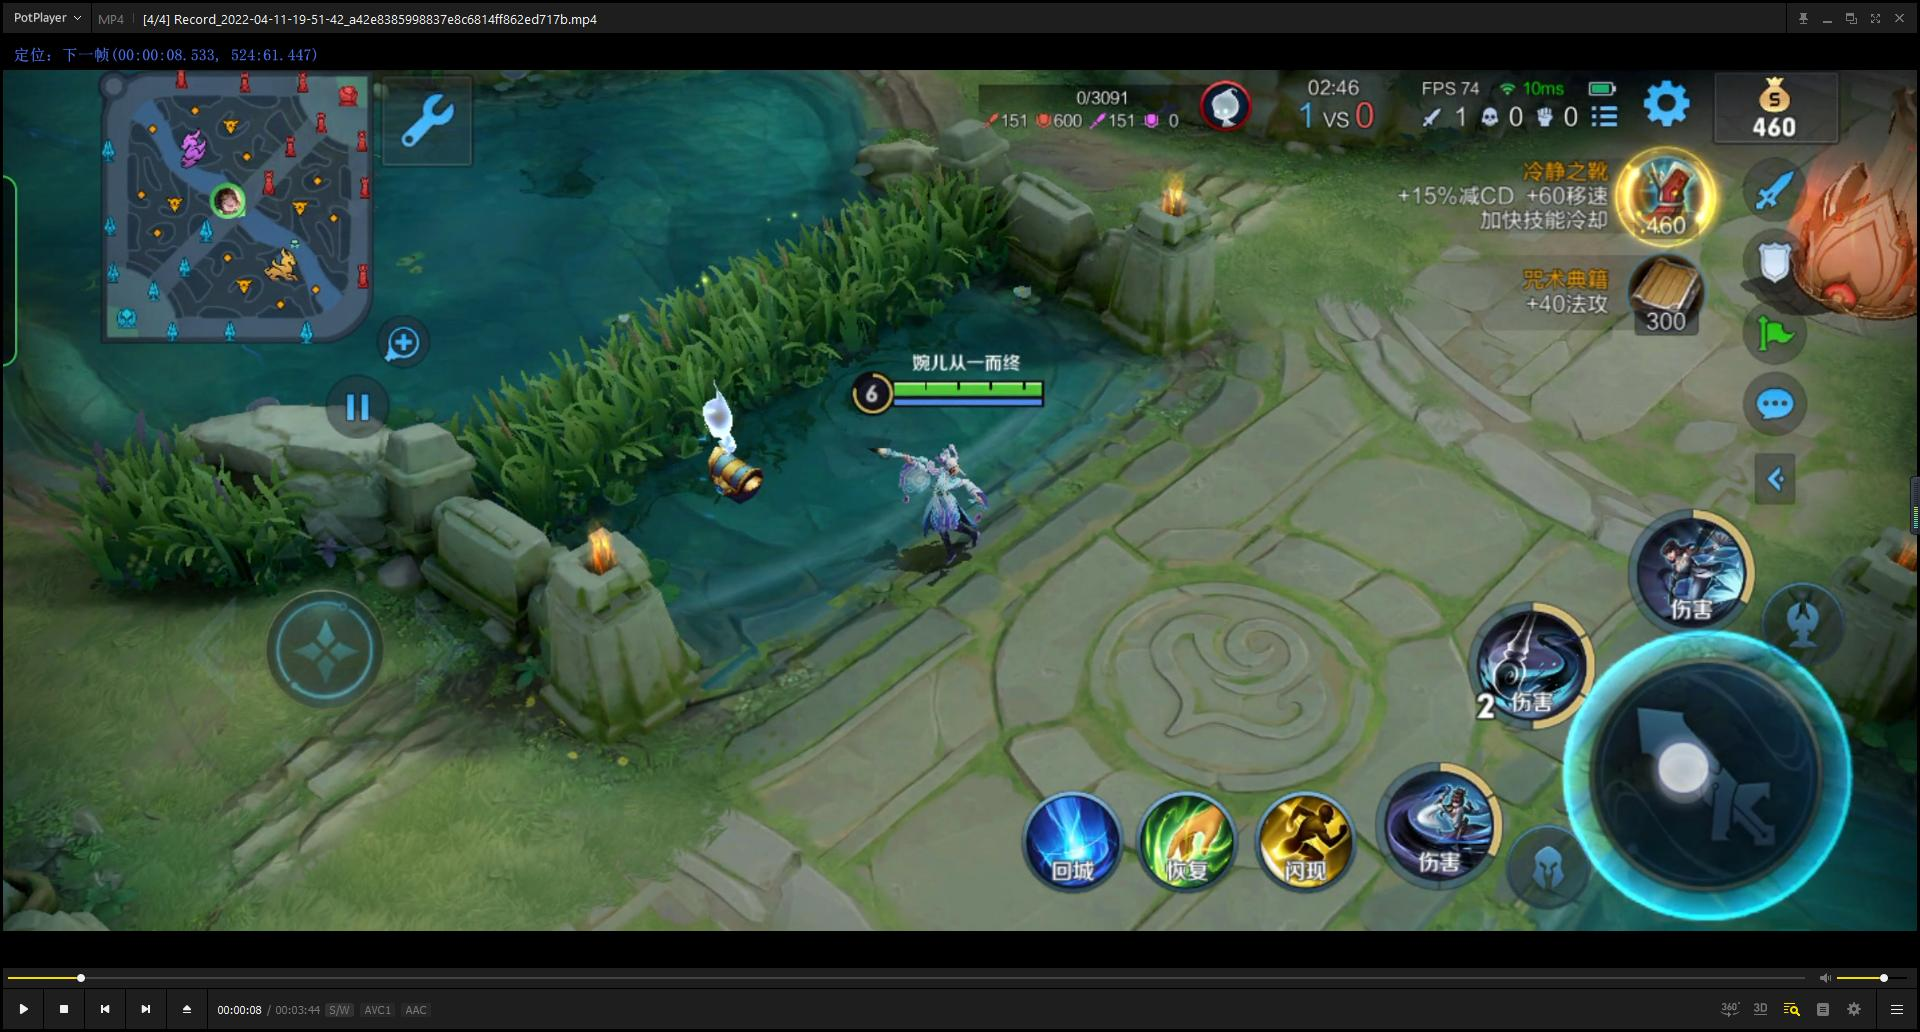Hero: (848, 411, 1094, 602)
Spirit: (649, 363, 781, 549)
Tower: (1727, 72, 1920, 336)
